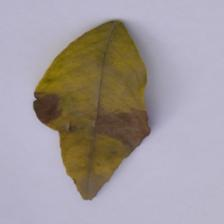black spot: (35, 80, 152, 150)
